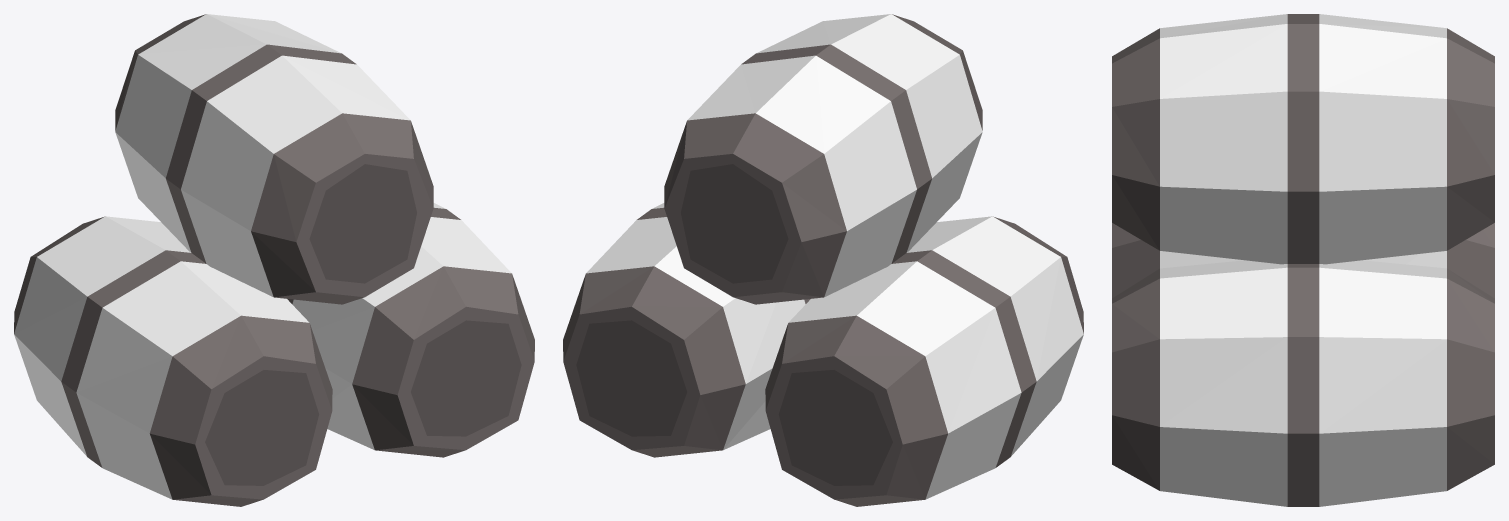
The picture shows the model from 3 angles, left to right: view 1: azimuth 30°, elevation 25°; view 2: azimuth 150°, elevation 25°; view 3: azimuth 270°, elevation 25°; orthographic projection. The views are drawn at different scales.
Bounding box in the file's own units: 126 × 115 × 96.
Materials: 1 (1 with a texture image).
